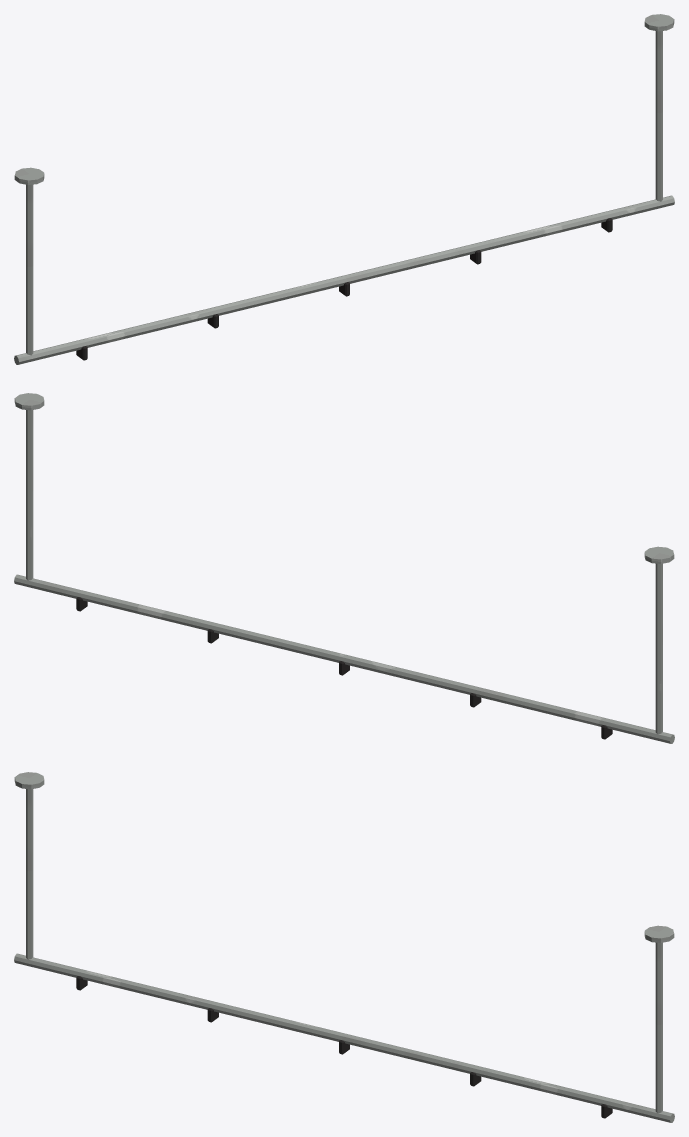
Rendered from hang_bar.glb.
3 renders of one model, top to bottom at view 1: azimuth 30°, elevation 25°; view 2: azimuth 150°, elevation 25°; view 3: azimuth 330°, elevation 25°, orthographic.
Parts seen in each view (by area): view 1: p; view 2: p; view 3: p.
Boxes of the visible parts, x1,y1,x2,y2 form: p: (14, 14, 674, 364); p: (14, 393, 674, 743); p: (14, 772, 674, 1122).
Size of the model in its own units: 1.5 by 0.43 by 0.06.
Materials: 2 (2 with a texture image).
